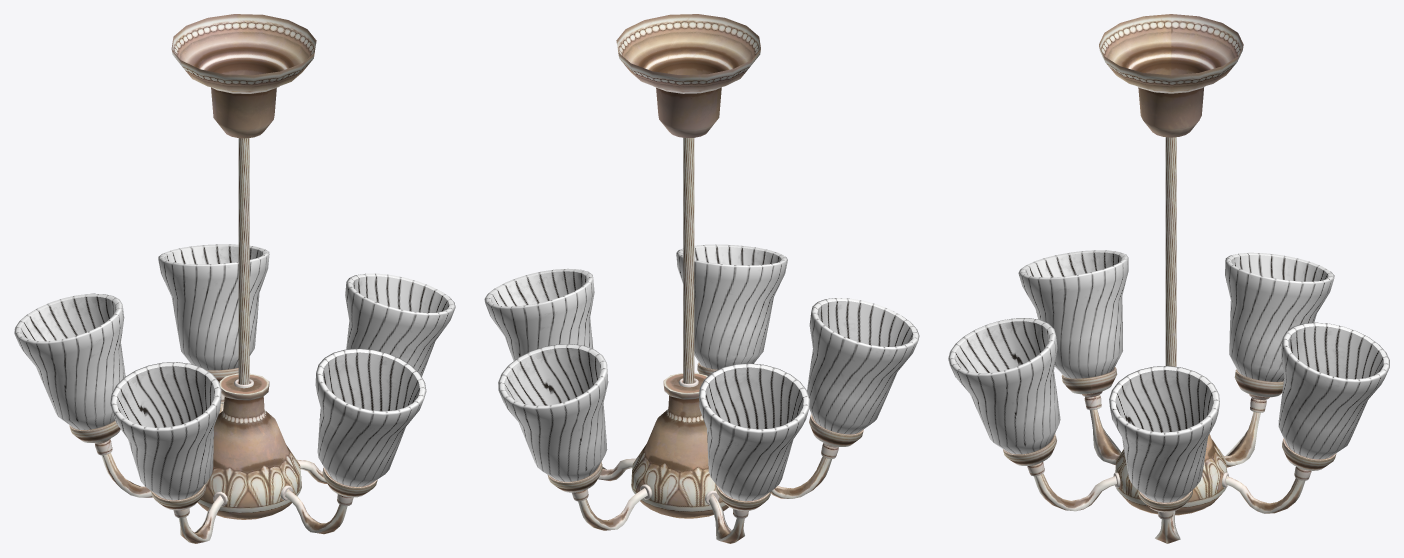
Rendered from MSH_Deco_Sconce_02.FBX.
The picture shows the model from 3 angles, left to right: view 1: azimuth 30°, elevation 25°; view 2: azimuth 150°, elevation 25°; view 3: azimuth 270°, elevation 25°; orthographic projection.
Parts seen in each view (by area): view 1: MSH_Deco_Sconce_02; view 2: MSH_Deco_Sconce_02; view 3: MSH_Deco_Sconce_02.
Part boxes in pixels (<box>): MSH_Deco_Sconce_02: <box>14,14,455,543</box>; MSH_Deco_Sconce_02: <box>484,14,919,543</box>; MSH_Deco_Sconce_02: <box>948,14,1389,543</box>.
Size of what is drawn, in the model's own units: 96.28 by 98.95 by 114.
